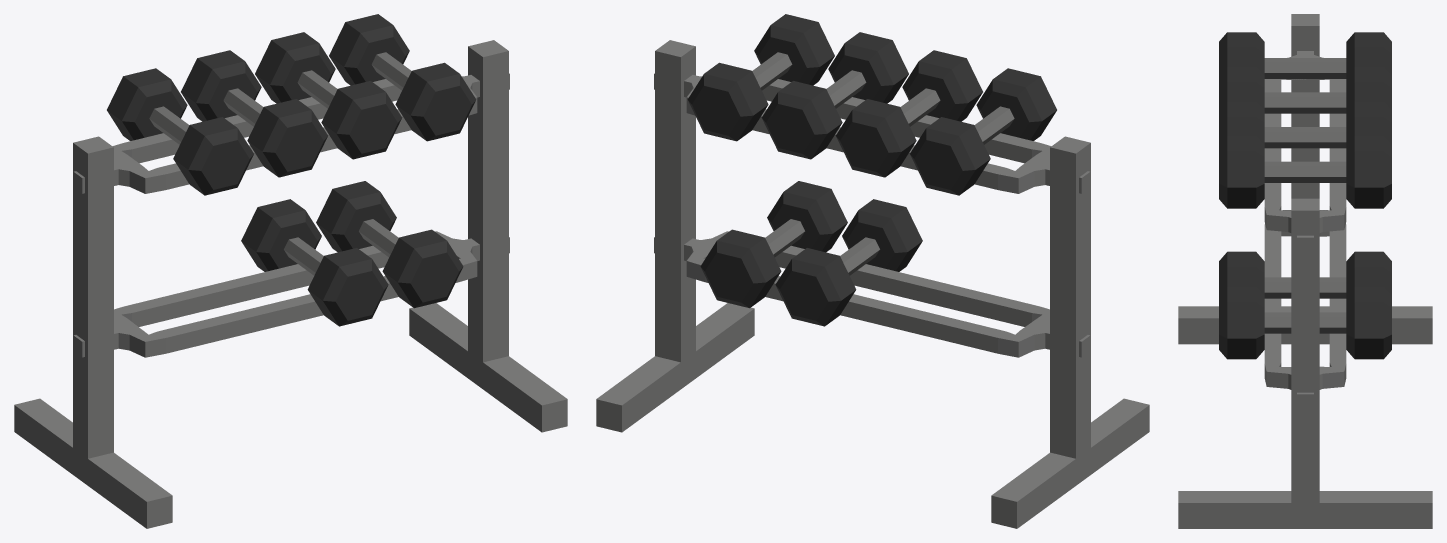
File: SM_Props_Interior_Shop_Gym_Dumbble_Stand.fbx
3 renders of one model, left to right at view 1: azimuth 30°, elevation 25°; view 2: azimuth 150°, elevation 25°; view 3: azimuth 270°, elevation 25°, orthographic. The views are drawn at different scales.
Parts seen in each view (by area): view 1: SM_Props_Interior_Shop_Gym_Dumbble_Stand; view 2: SM_Props_Interior_Shop_Gym_Dumbble_Stand; view 3: SM_Props_Interior_Shop_Gym_Dumbble_Stand.
Boxes of the visible parts, x1,y1,x2,y2 form: SM_Props_Interior_Shop_Gym_Dumbble_Stand: (14,14,567,528); SM_Props_Interior_Shop_Gym_Dumbble_Stand: (596,14,1149,528); SM_Props_Interior_Shop_Gym_Dumbble_Stand: (1178,14,1432,528).
Bounding box in the file's own units: 51.95 × 41.09 × 27.92.
